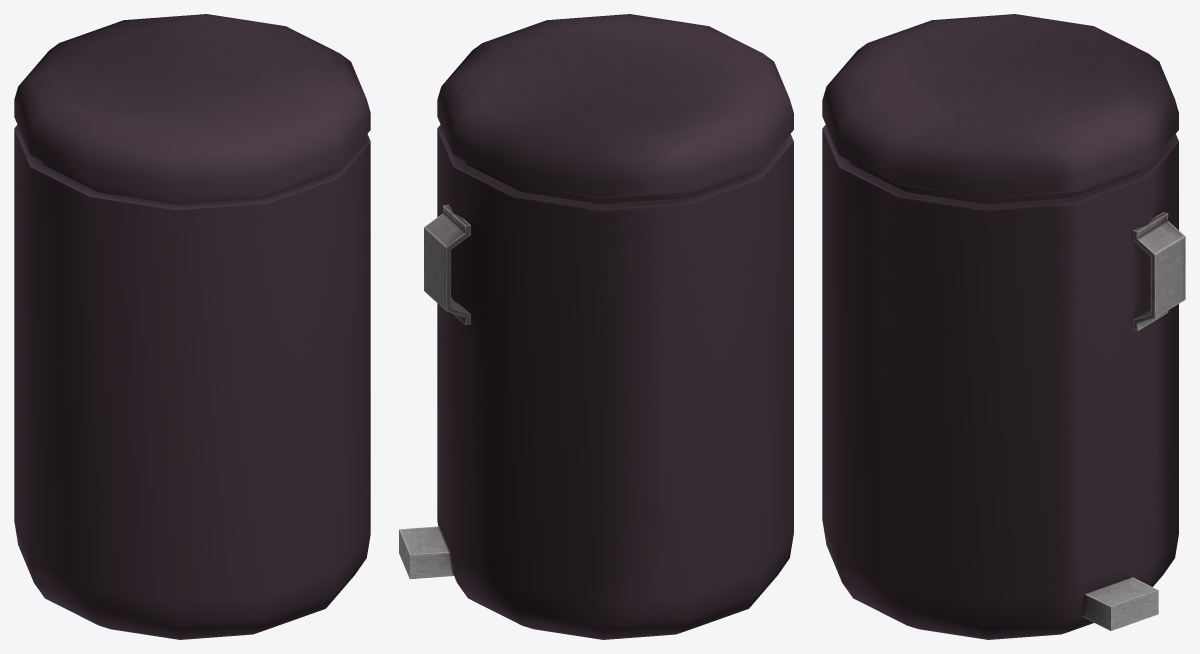
The model's file is SM_Rice_Cooker.fbx.
3 views of the same model, side by side, from view 1: azimuth 30°, elevation 25°; view 2: azimuth 150°, elevation 25°; view 3: azimuth 270°, elevation 25° (orthographic).
Visible parts, largest first — view 1: SM_Rice_Cooker; view 2: SM_Rice_Cooker; view 3: SM_Rice_Cooker.
Boxes of the visible parts, x1=… form: SM_Rice_Cooker: x1=14, y1=14, x2=370, y2=639; SM_Rice_Cooker: x1=399, y1=14, x2=793, y2=639; SM_Rice_Cooker: x1=822, y1=14, x2=1185, y2=639.
Size of the model in its own units: 60.87 by 60.59 by 93.82.
Materials: 1 (1 with a texture image).
